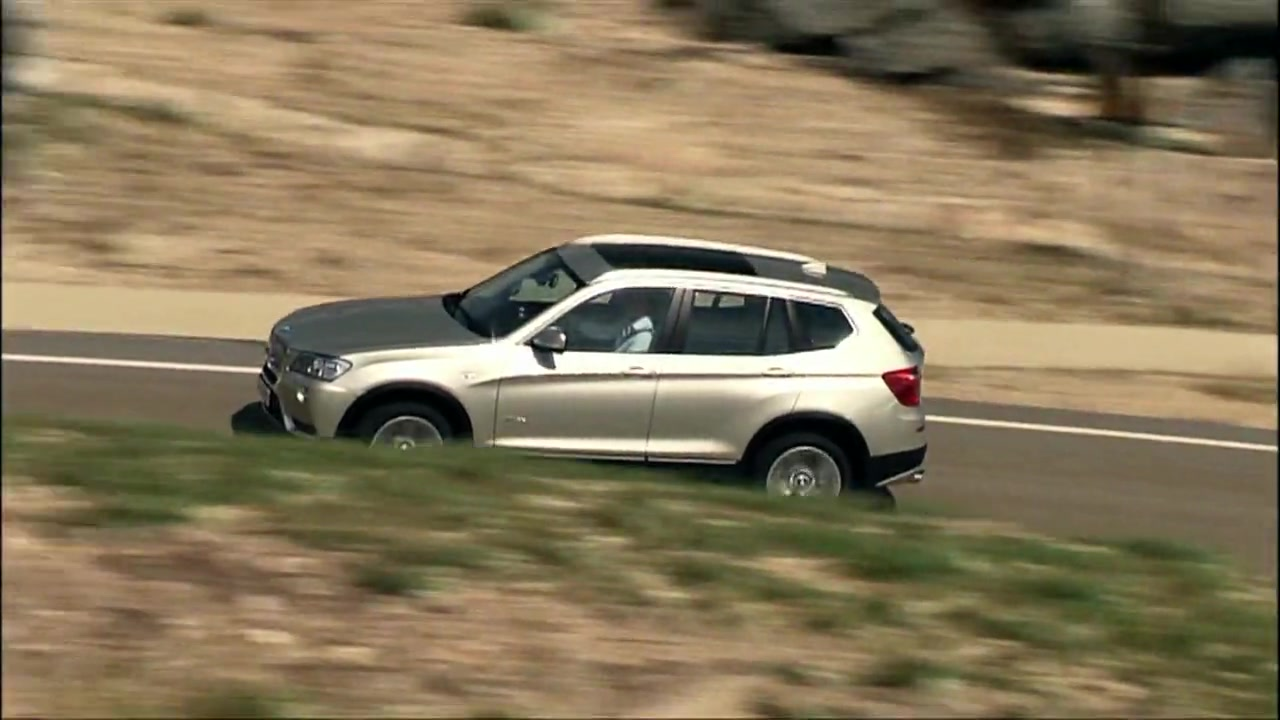car: (262, 230, 931, 519)
